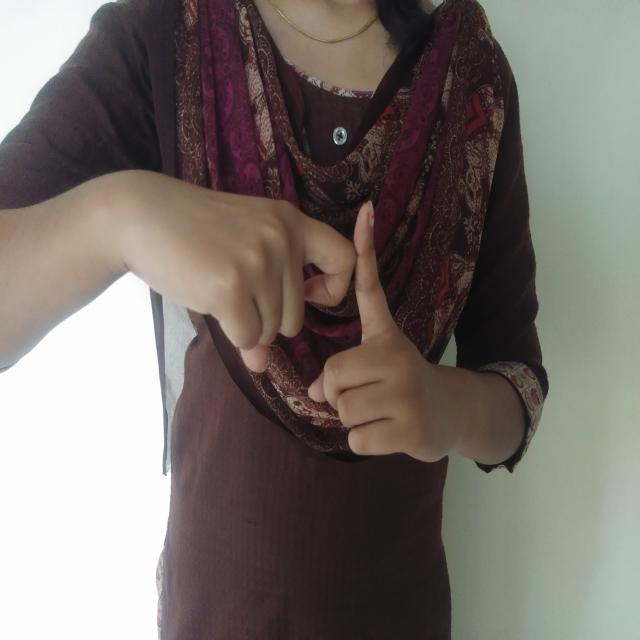K: (114, 160, 470, 494)
